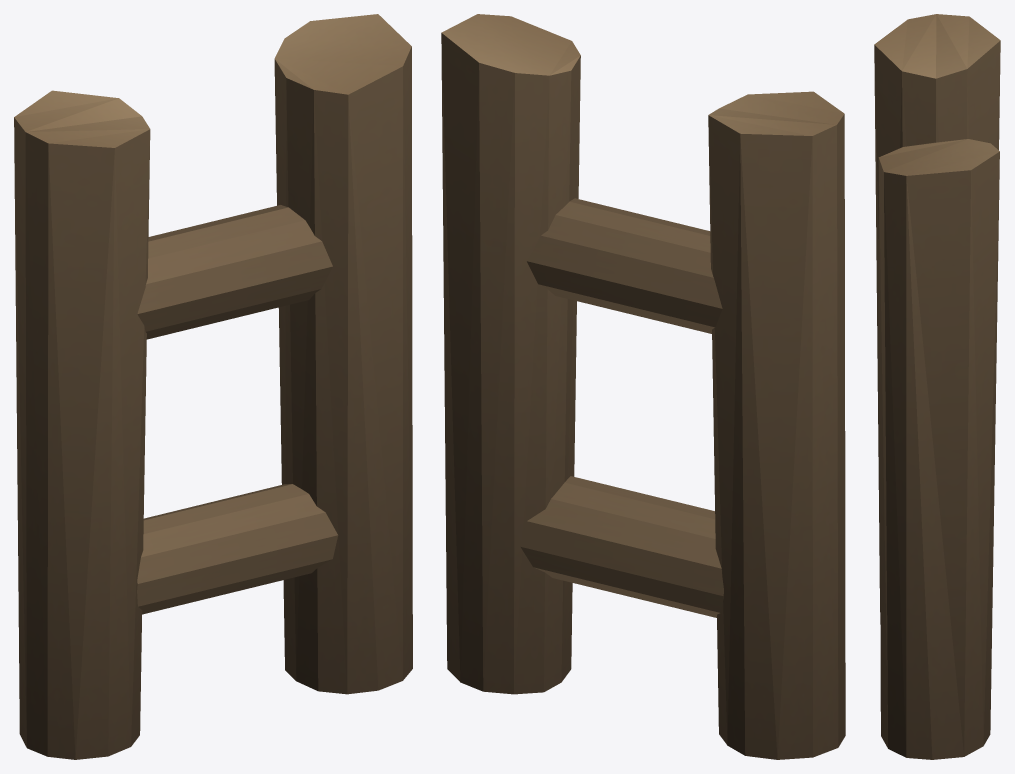
File: ZLP_Build_F_21.FBX
The picture shows the model from 3 angles, left to right: view 1: azimuth 30°, elevation 25°; view 2: azimuth 150°, elevation 25°; view 3: azimuth 270°, elevation 25°; orthographic projection. The views are drawn at different scales.
Parts seen in each view (by area): view 1: ZLP_Build_F_21; view 2: ZLP_Build_F_21; view 3: ZLP_Build_F_21.
Part boxes in pixels (x1,y1,x2,y2): ZLP_Build_F_21: [14, 14, 412, 759]; ZLP_Build_F_21: [441, 14, 845, 759]; ZLP_Build_F_21: [874, 14, 1000, 759].
Size of the model in its own units: 51.82 by 82.94 by 16.16.
